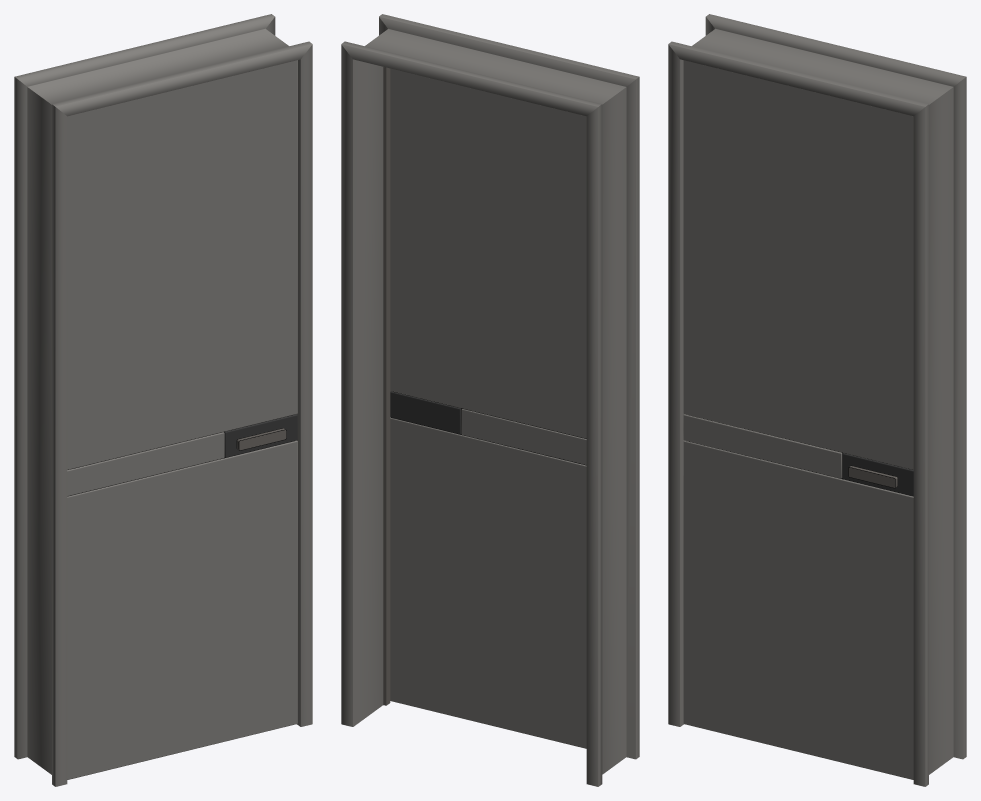
Rendered from door.glb.
3 renders of one model, left to right at view 1: azimuth 30°, elevation 25°; view 2: azimuth 150°, elevation 25°; view 3: azimuth 330°, elevation 25°, orthographic.
Parts seen in each view (by area): view 1: SK_Solid_5, SK_Solid_3, SK_Solid_2; view 2: SK_Solid_5, SK_Solid_6, SK_Solid_3; view 3: SK_Solid_5, SK_Solid_3, SK_Solid_2.
Boxes of the visible parts, x1=… form: SK_Solid_5: x1=14, y1=14, x2=312, y2=786; SK_Solid_3: x1=224, y1=414, x2=297, y2=457; SK_Solid_2: x1=237, y1=428, x2=286, y2=450; SK_Solid_5: x1=341, y1=14, x2=639, y2=786; SK_Solid_6: x1=383, y1=67, x2=390, y2=705; SK_Solid_3: x1=390, y1=391, x2=460, y2=434; SK_Solid_5: x1=668, y1=14, x2=966, y2=786; SK_Solid_3: x1=842, y1=453, x2=913, y2=496; SK_Solid_2: x1=848, y1=466, x2=897, y2=487.
Bounding box in the file's own units: 0.8312 × 2.1 × 0.2414.
Materials: 6 (1 with a texture image).
